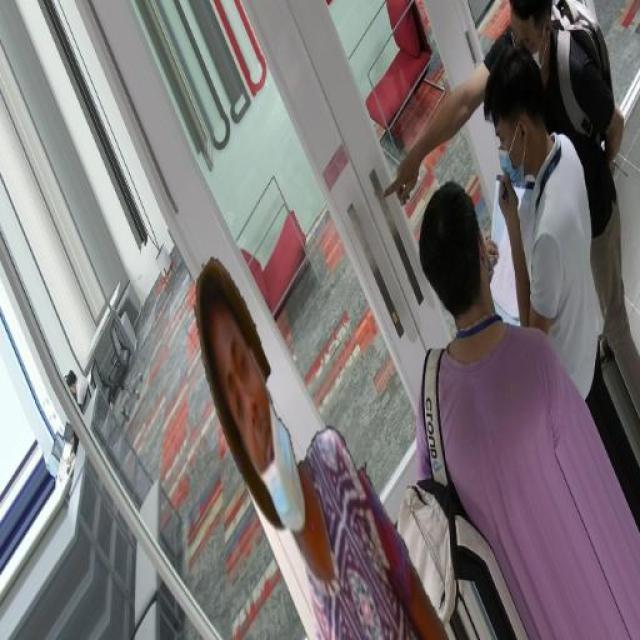hairnet: (223, 326, 306, 532)
